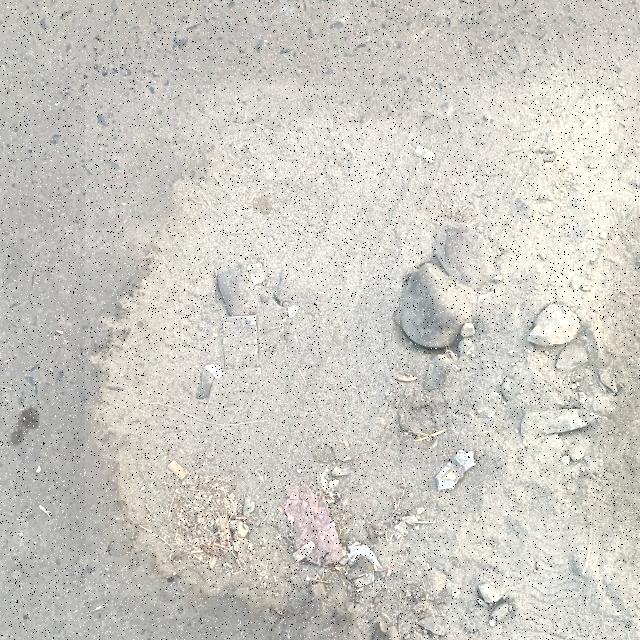damaged: (85, 85, 613, 596)
